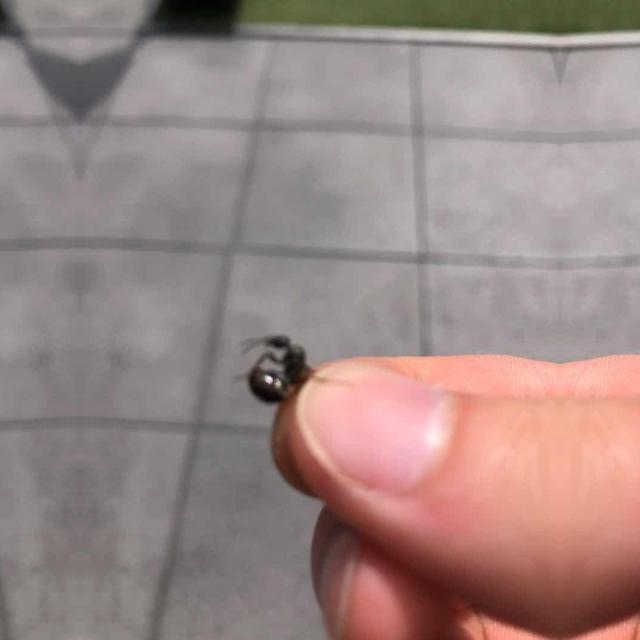Formica: (230, 309, 322, 411)
